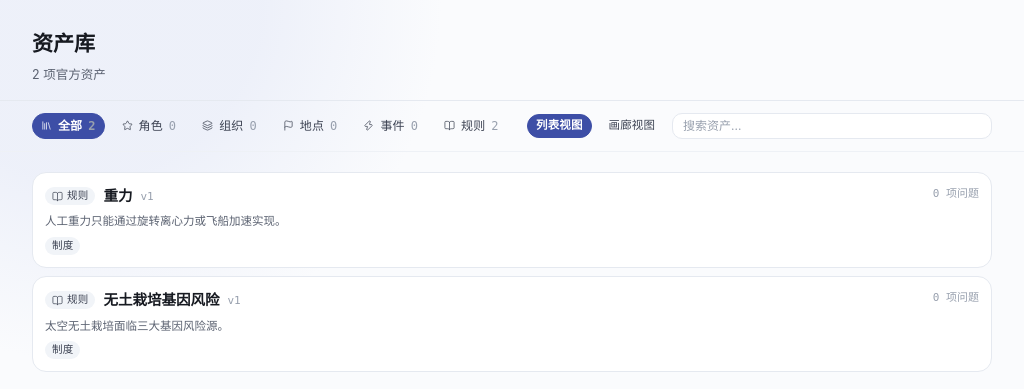
Test: OfficialAssetLibraryPage › keeps remote type counts sourced from the complete asset list
Expected: the button named "全部2" is shown, [32,113,105,139]
Expected: the button named "规则2" is shown, [435,113,508,139]
Click the button named "角色0" at x=149, y=126, box [113,113,185,139]
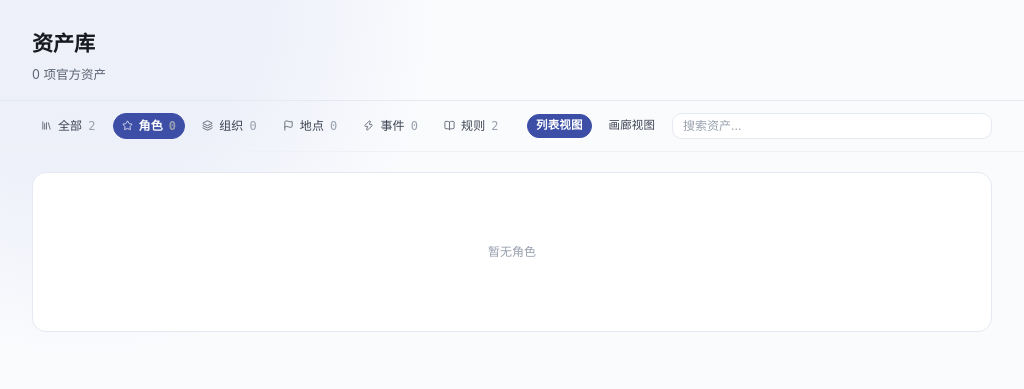
Expected: the button named "全部2" is shown, [32,113,105,139]
Expected: the text "暂无角色" is shown, [488,243,536,261]
